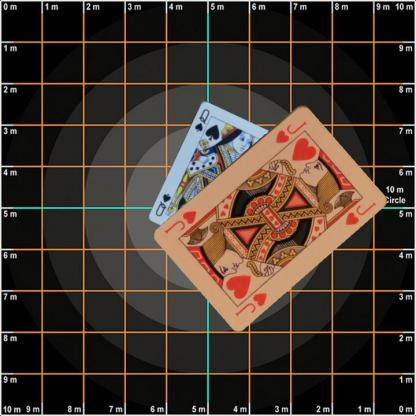Jh: (232, 289, 269, 318), (272, 118, 308, 144)
Qs: (192, 106, 211, 133)
